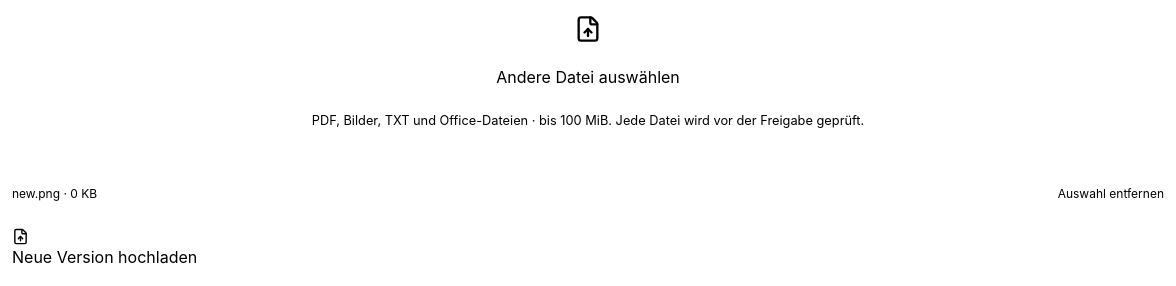
Scenario: invalidates existing version history after a confirmed replacement instead of reopening stale rows
The width and height of the screenshot is (1176, 286).
Earlier steps of the test are not shown.
Click the button "Neue Version hochladen": (105, 249) 12,228 -> 197,269
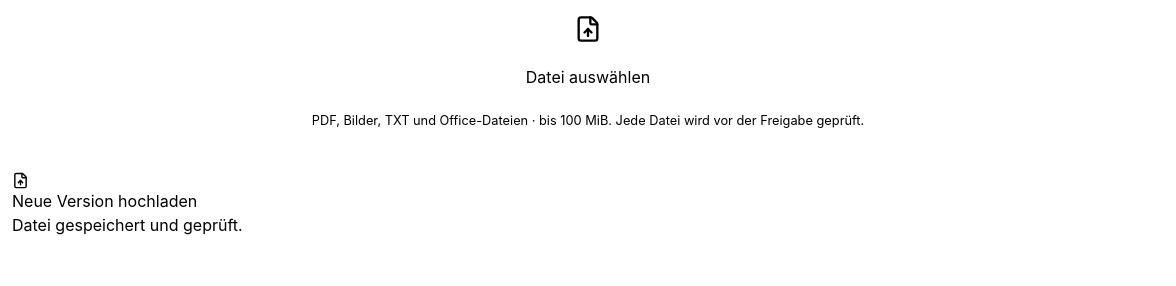
Expected: the text "Datei gespeichert und geprüft." is shown, 12,215 -> 243,235
